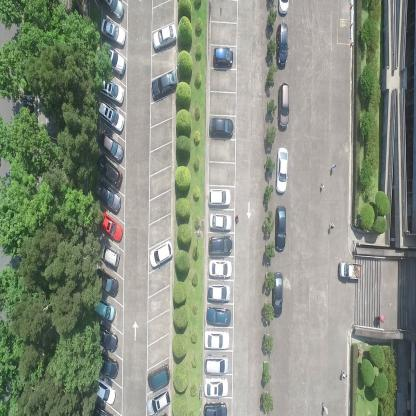car: (96, 152, 122, 189), (150, 68, 178, 101), (94, 180, 121, 214), (97, 100, 125, 132), (98, 128, 124, 162), (148, 238, 174, 270), (101, 45, 127, 77), (98, 210, 122, 244), (97, 76, 125, 105), (99, 18, 126, 47), (152, 22, 178, 52), (146, 363, 172, 392), (94, 268, 118, 298), (94, 323, 118, 353), (146, 388, 171, 415), (93, 377, 116, 405), (209, 115, 234, 140), (95, 353, 118, 380), (274, 204, 286, 254), (93, 298, 116, 324), (204, 330, 231, 352), (277, 81, 289, 130), (272, 270, 284, 318), (337, 259, 362, 282), (276, 147, 288, 194), (100, 242, 121, 268), (276, 22, 288, 67), (203, 354, 230, 374), (208, 234, 232, 256), (204, 376, 228, 398), (206, 306, 232, 326), (208, 187, 231, 208), (208, 258, 232, 278), (212, 46, 233, 68), (209, 212, 232, 232), (206, 283, 231, 301), (101, 0, 124, 19), (202, 401, 228, 415), (277, 0, 290, 15)
